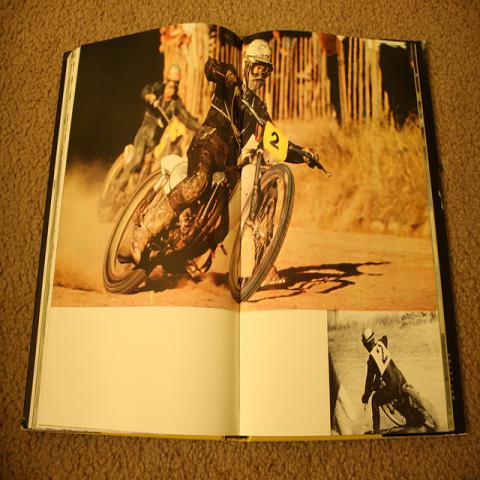motorcycle: (102, 67, 332, 304), (99, 117, 193, 222), (362, 375, 441, 432)
